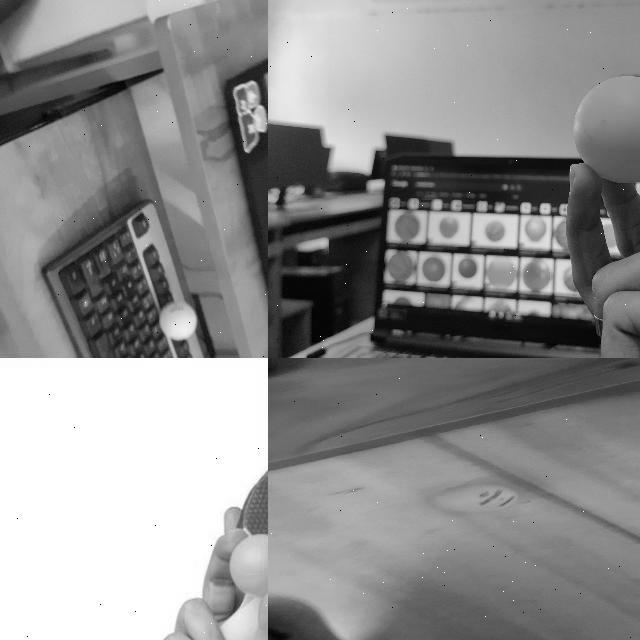ping-pong-ball: (573, 75, 639, 184), (230, 534, 267, 597), (436, 484, 516, 512), (160, 303, 193, 339)
